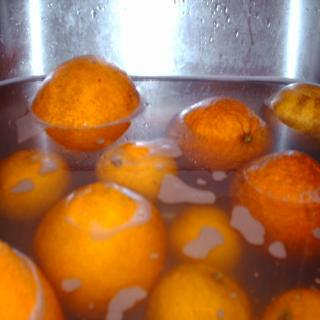Orange: (34, 180, 169, 320), (228, 147, 320, 266), (30, 54, 142, 128), (166, 97, 272, 171), (146, 260, 256, 320), (0, 149, 74, 222), (167, 204, 244, 272), (0, 240, 65, 320), (268, 81, 320, 142), (262, 286, 320, 319)
